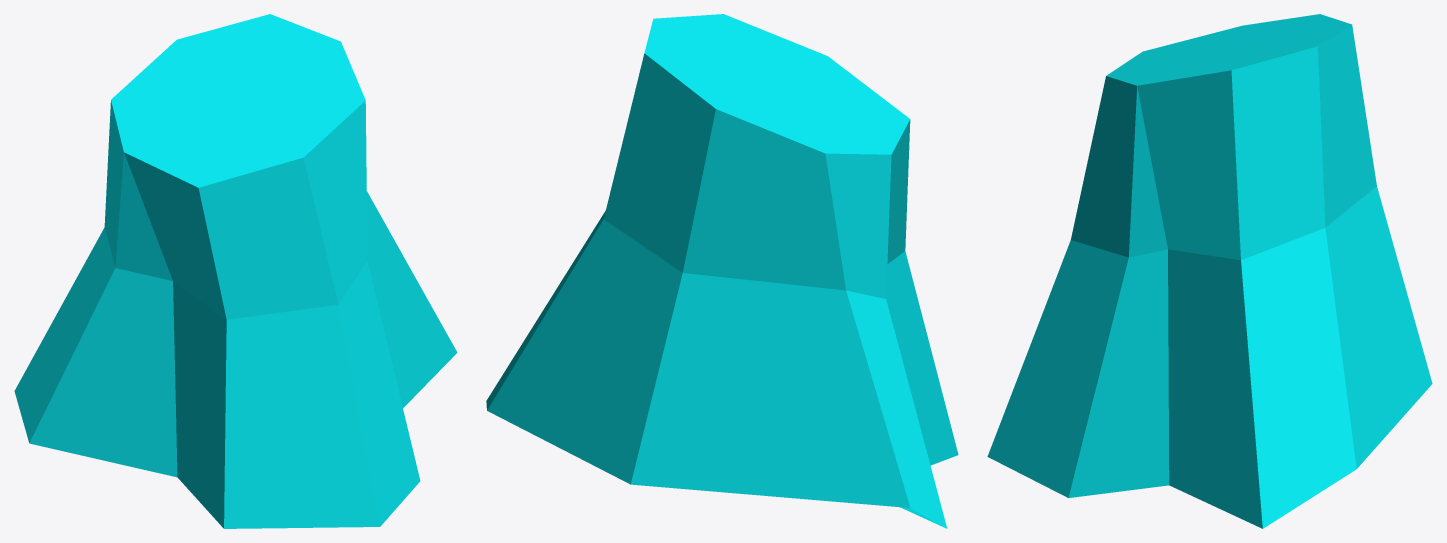
File: forestpack_tree_stump_1_meshCollider.FBX
The picture shows the model from 3 angles, left to right: view 1: azimuth 30°, elevation 25°; view 2: azimuth 150°, elevation 25°; view 3: azimuth 270°, elevation 25°; orthographic projection. The views are drawn at different scales.
Visible parts, largest first — view 1: forestpack_tree_stump_1_meshCollider; view 2: forestpack_tree_stump_1_meshCollider; view 3: forestpack_tree_stump_1_meshCollider.
Boxes of the visible parts, x1,y1,x2,y2 form: forestpack_tree_stump_1_meshCollider: (14,14,457,528); forestpack_tree_stump_1_meshCollider: (486,14,958,528); forestpack_tree_stump_1_meshCollider: (987,14,1432,528).
Size of the model in its own units: 71.61 by 64.92 by 60.61.
